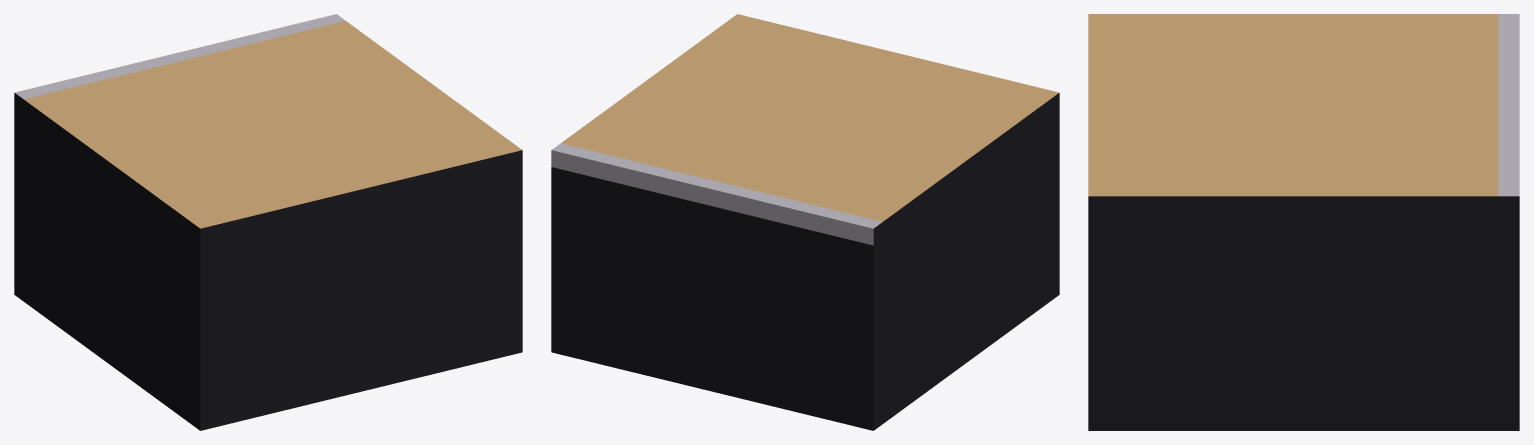
File: ManPad_6.fbx
3 views of the same model, side by side, from view 1: azimuth 30°, elevation 25°; view 2: azimuth 150°, elevation 25°; view 3: azimuth 270°, elevation 25° (orthographic). The views are drawn at different scales.
Visible parts, largest first — view 1: ManPad_6; view 2: ManPad_6; view 3: ManPad_6.
Boxes of the visible parts, left/top/right/bottom form: ManPad_6: left=14, top=14, right=522, bottom=430; ManPad_6: left=551, top=14, right=1059, bottom=430; ManPad_6: left=1088, top=14, right=1519, bottom=430.
Size of the model in its own units: 10 by 6 by 10.
